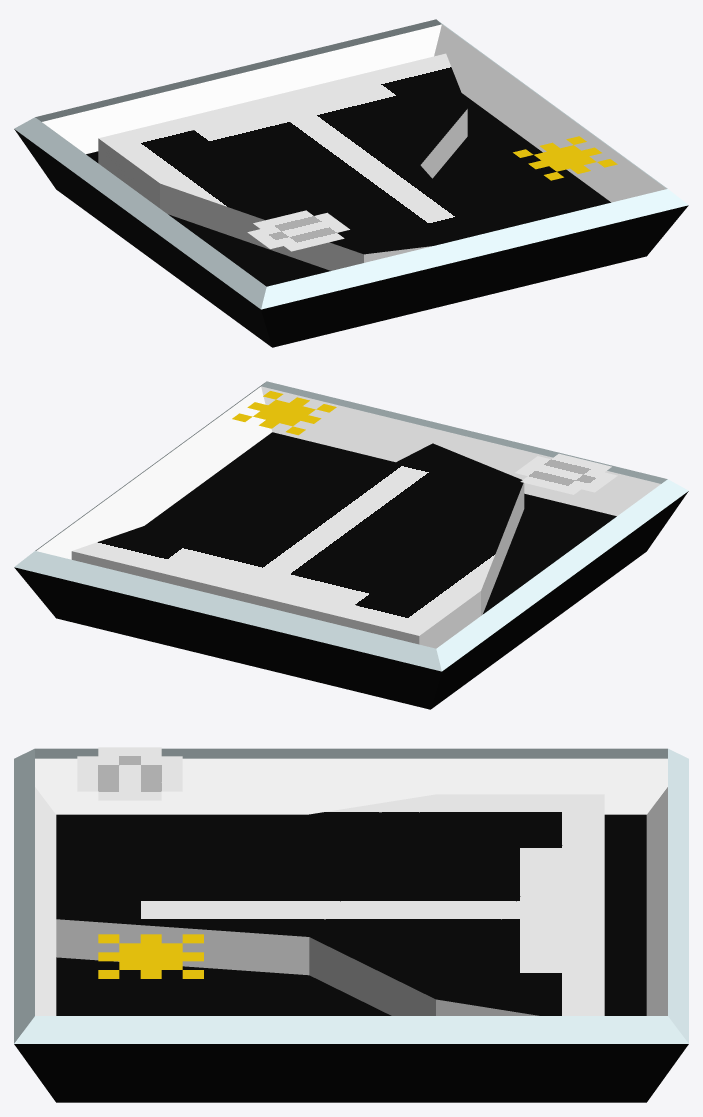
Rendered from steak.gltf.
The picture shows the model from 3 angles, top to bottom: view 1: azimuth 30°, elevation 25°; view 2: azimuth 150°, elevation 25°; view 3: azimuth 270°, elevation 25°; orthographic projection. The views are drawn at different scales.
Visible parts, largest first — view 1: box, steak, top; view 2: box, steak, top; view 3: box, steak, top.
Part boxes in pixels (x1,y1,x2,y2): box: (14,24,688,347); steak: (98,53,481,270); top: (14,19,688,309); box: (14,386,688,709); steak: (71,443,524,648); top: (14,381,688,671); box: (14,758,688,1102); steak: (56,794,604,1015); top: (14,747,688,1043).
Size of the model in its own units: 1 by 0.1875 by 1.
3 materials, 3 textured.
